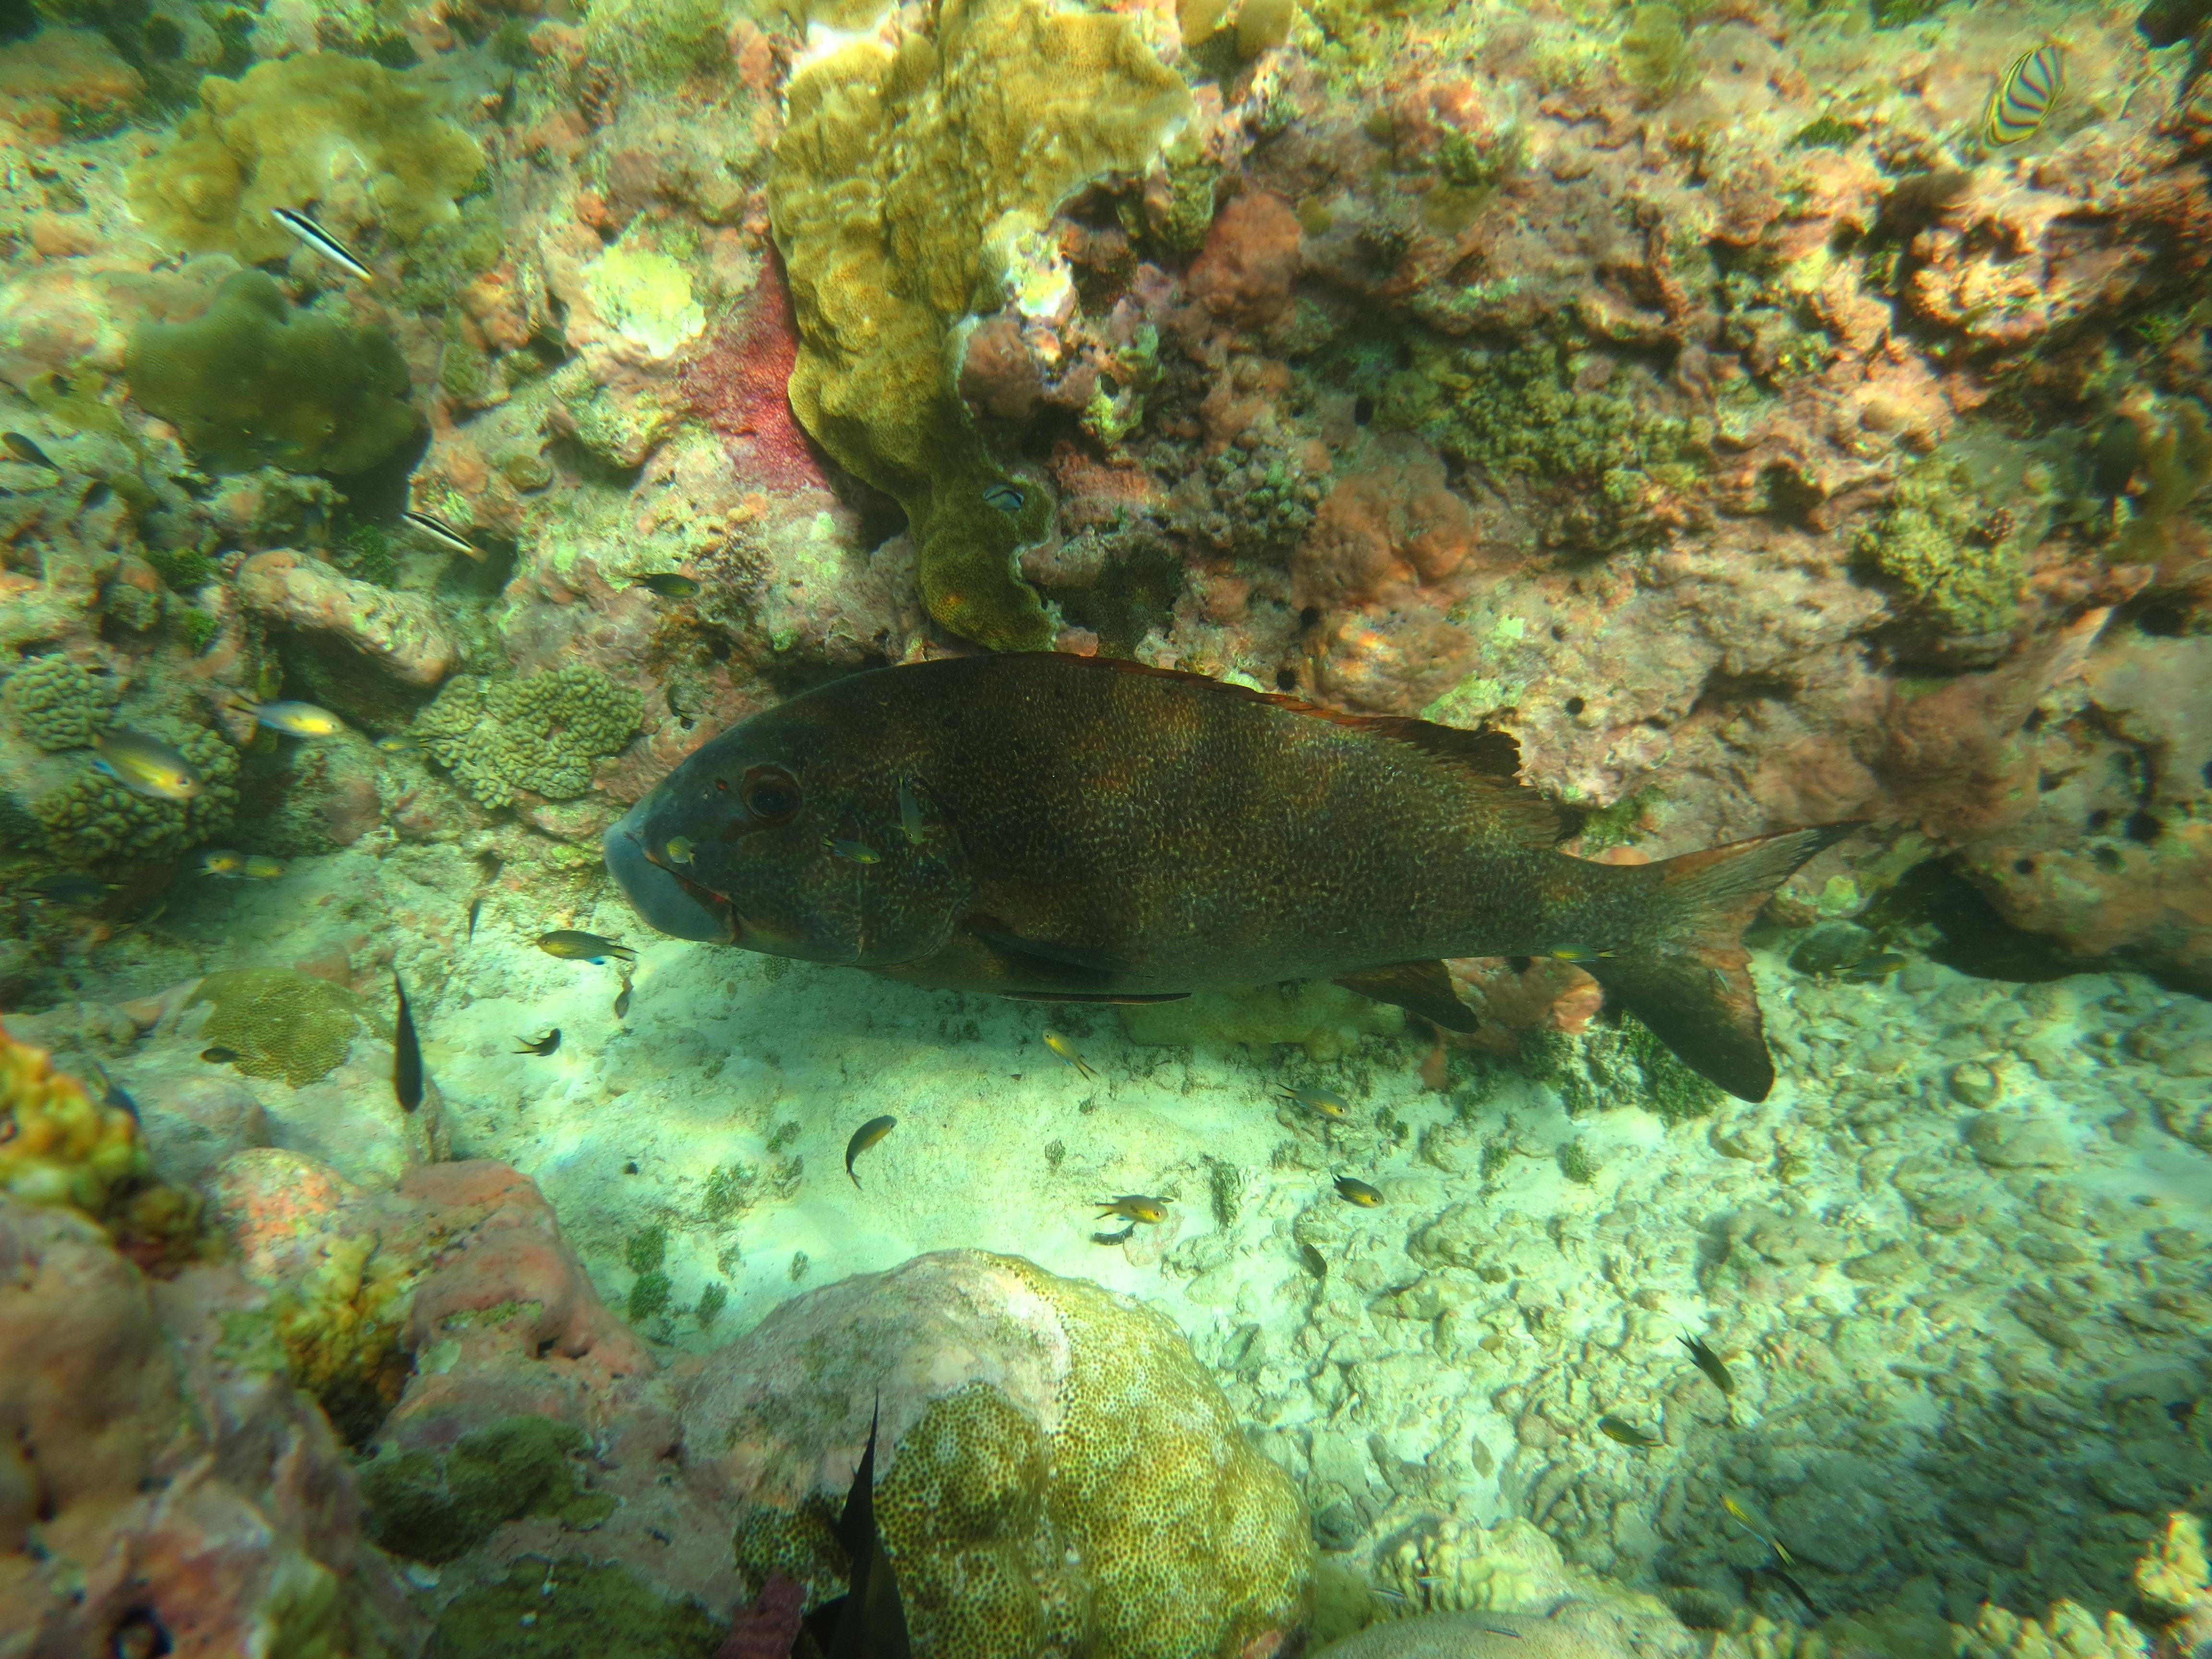Fish: (571, 636, 1848, 1131)
